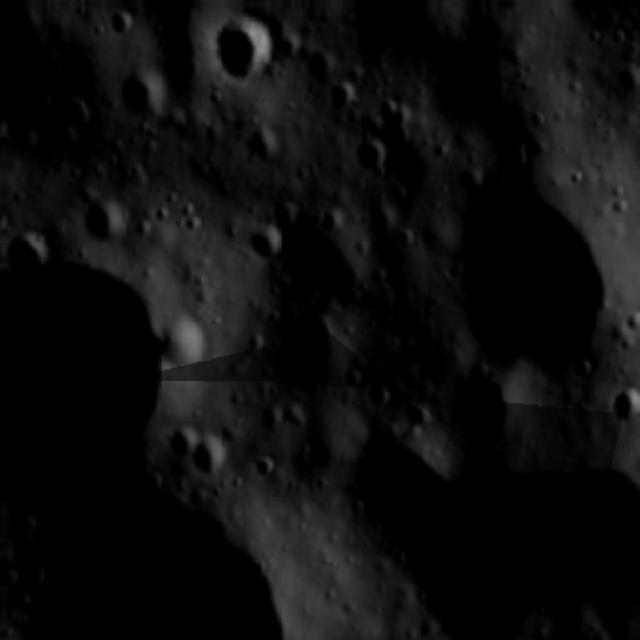crater: (2, 265, 166, 477), (453, 192, 612, 363), (278, 308, 350, 383), (212, 13, 272, 84), (587, 376, 640, 433), (117, 64, 160, 127), (74, 196, 129, 242), (8, 232, 55, 272), (349, 131, 389, 178), (238, 224, 282, 265), (196, 431, 224, 478), (362, 378, 395, 410), (250, 446, 279, 480), (168, 418, 190, 462), (482, 0, 540, 14)
